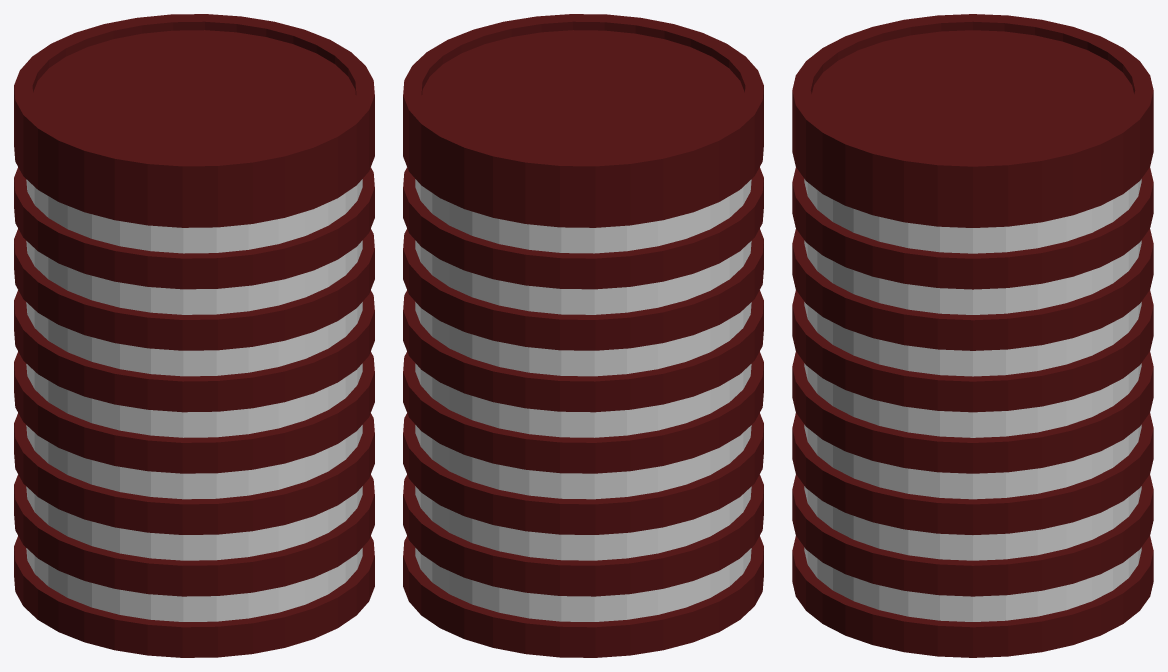
Rendered from Baril_Tech.fbx.
3 views of the same model, side by side, from view 1: azimuth 30°, elevation 25°; view 2: azimuth 150°, elevation 25°; view 3: azimuth 270°, elevation 25° (orthographic).
Parts seen in each view (by area): view 1: Cylinder; view 2: Cylinder; view 3: Cylinder.
Boxes of the visible parts, left/top/right/bottom form: Cylinder: left=14, top=14, right=374, bottom=657; Cylinder: left=403, top=14, right=763, bottom=657; Cylinder: left=792, top=14, right=1153, bottom=657.
Bounding box in the file's own units: 400 × 600 × 400.
